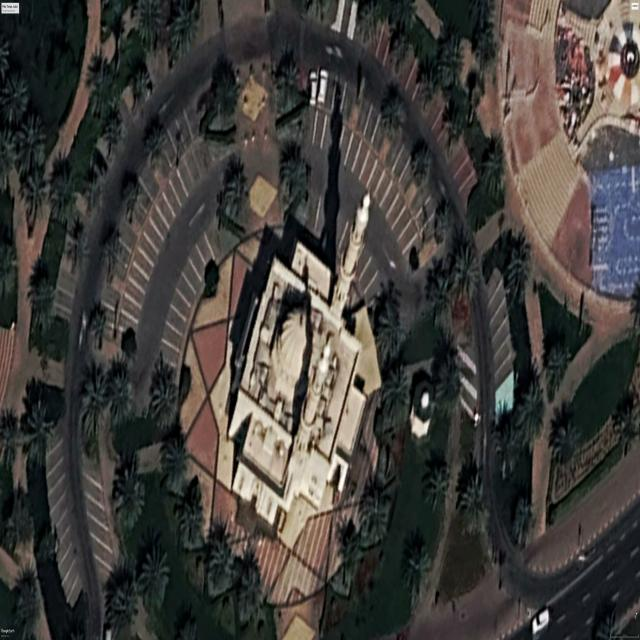mosque: (228, 243, 366, 525), (331, 192, 370, 315)
